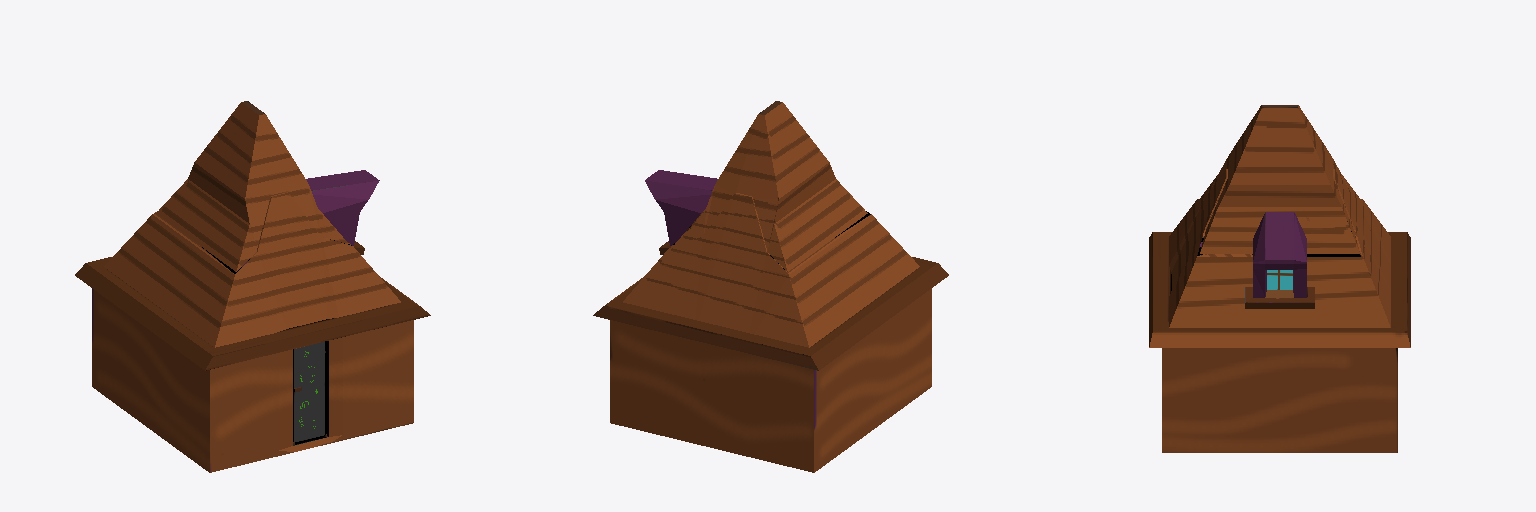
3 views of the same model, side by side, from view 1: azimuth 30°, elevation 25°; view 2: azimuth 150°, elevation 25°; view 3: azimuth 270°, elevation 25° (orthographic).
Parts seen in each view (by area): view 1: house, roof-1, roof-2, roofbase, Door, window; view 2: house, roof-1, roof-2, roofbase, window; view 3: house, roof-1, roof-2, roofbase, window.
Part boxes in pixels (x1,y1,x2,y2): house: (92, 288, 413, 472); roof-1: (104, 192, 400, 347); roof-2: (156, 101, 348, 271); roofbase: (75, 257, 430, 370); Door: (293, 341, 326, 444); window: (306, 170, 379, 254); house: (610, 288, 931, 472); roof-1: (623, 193, 919, 347); roof-2: (675, 101, 867, 271); roofbase: (593, 257, 948, 370); window: (645, 170, 717, 254); house: (1162, 348, 1397, 452); roof-1: (1169, 169, 1390, 327); roof-2: (1200, 105, 1359, 253); roofbase: (1149, 232, 1410, 347); window: (1245, 212, 1314, 308).
Bounding box in the file's own units: 13.62 × 16.63 × 13.26.
1 materials, 1 textured.